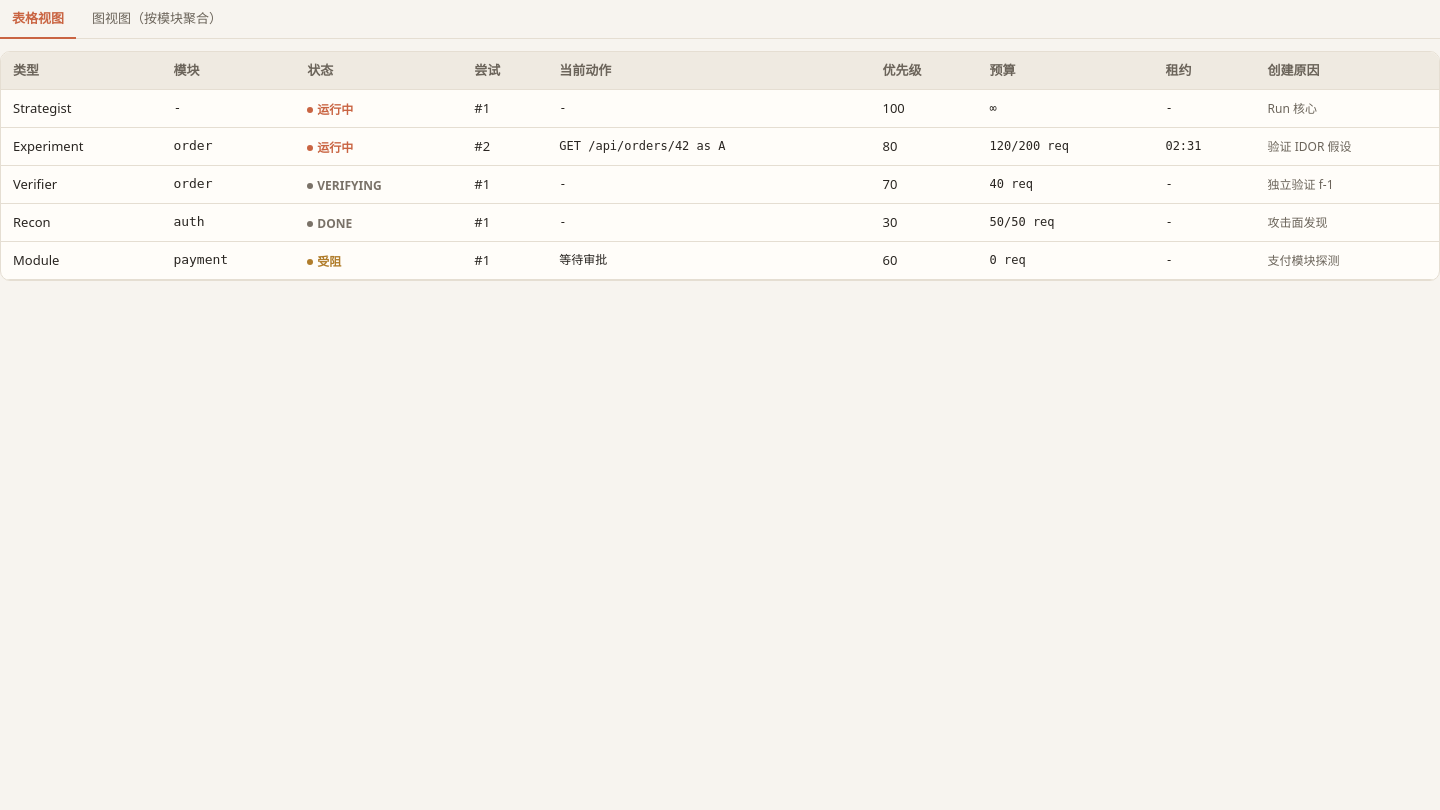
JobsPage（§16.4） › 表格视图 + 点击 Job 打开 Drawer（JobSpec/Cancel）
Later steps or results of the test are not shown.
Click the text "GET /api/orders/42 as A".
click(709, 146)  # box [547,127,870,165]
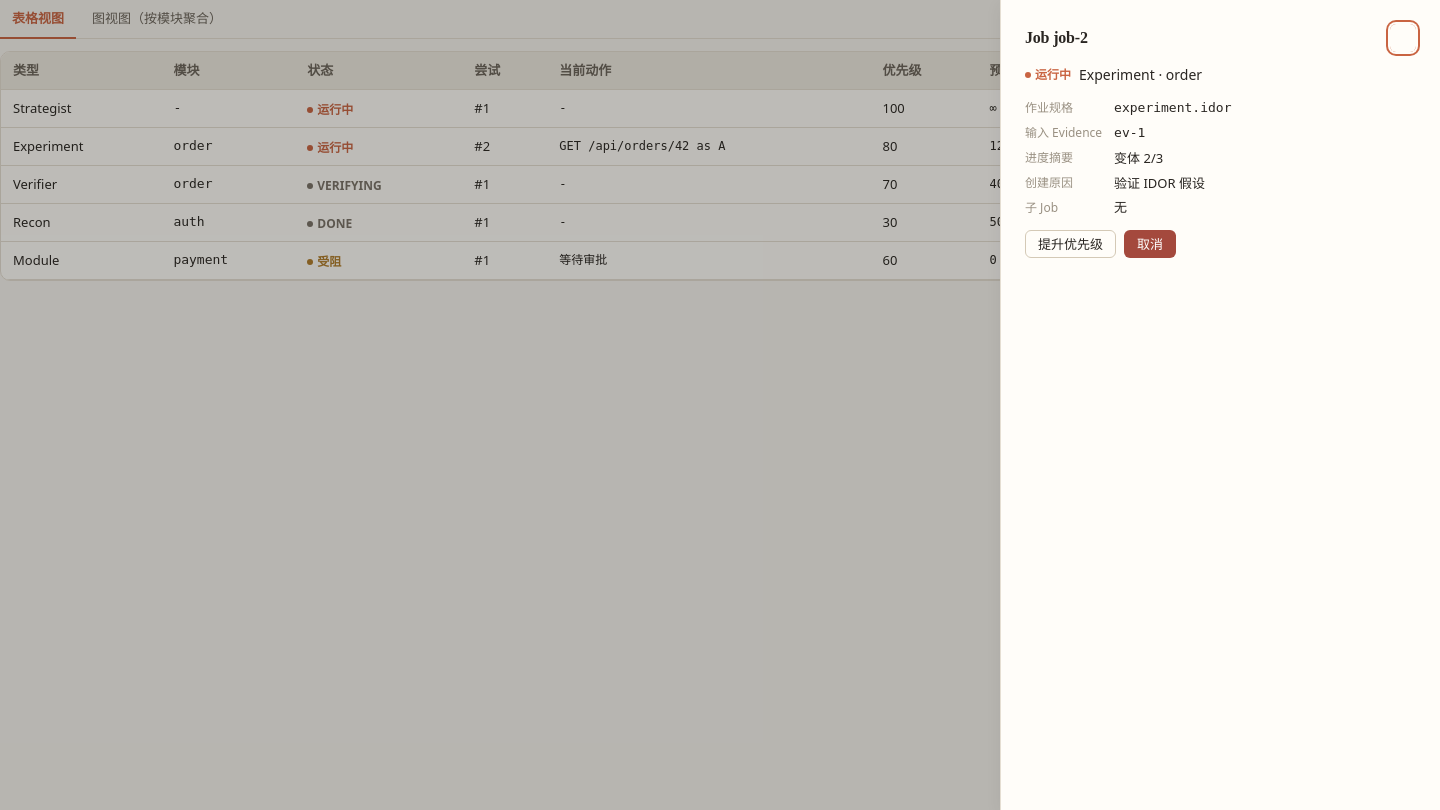
expect the text "experiment.idor" is shown: met, box [1114,100,1232,115]
